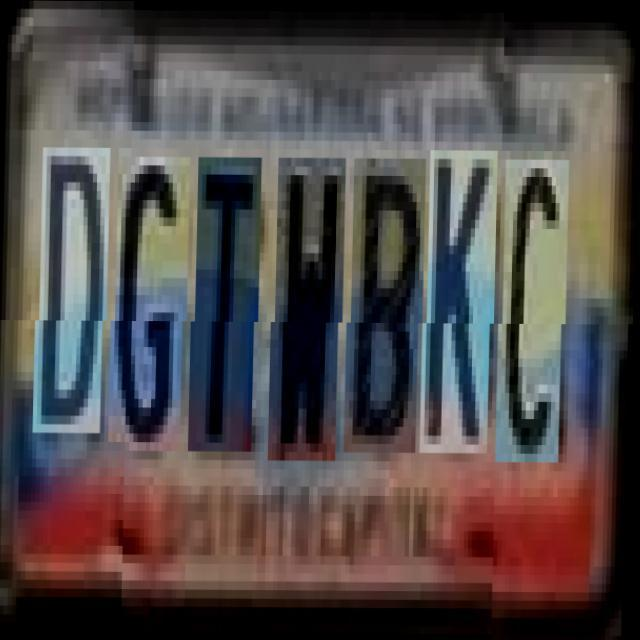B: (349, 158, 426, 452)
C: (502, 150, 570, 453)
D: (39, 156, 111, 442)
G: (114, 157, 191, 450)
K: (426, 150, 499, 452)
T: (194, 157, 262, 451)
W: (274, 157, 347, 460)
